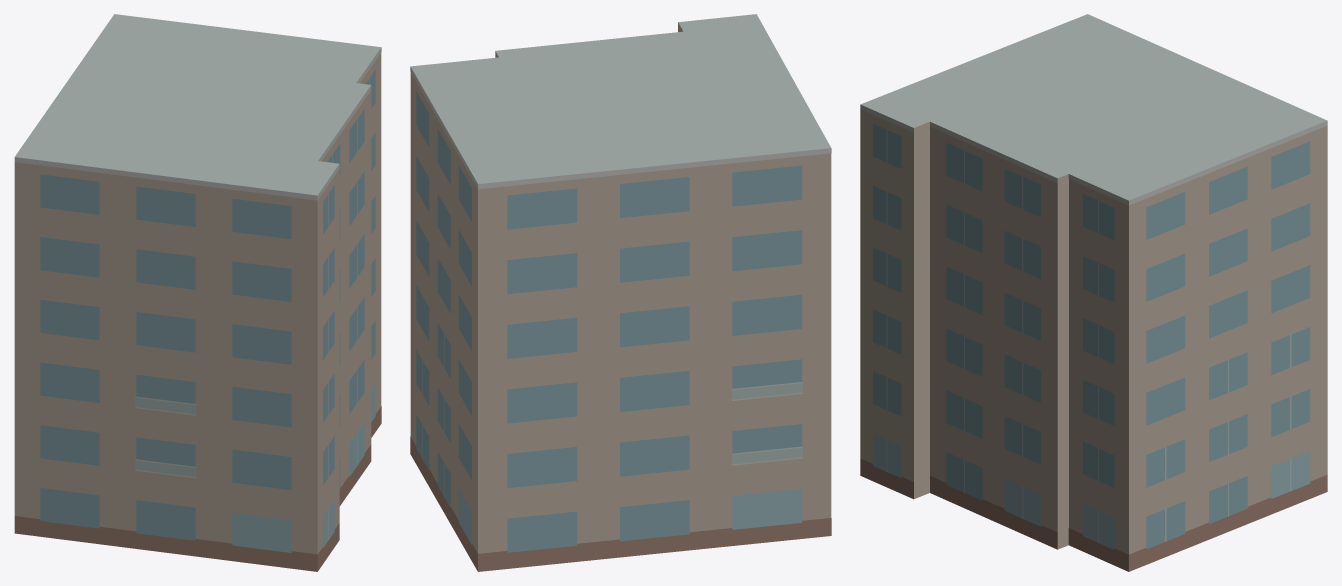
The model's file is survey-upis-32658175.glb.
The picture shows the model from 3 angles, left to right: view 1: azimuth 30°, elevation 25°; view 2: azimuth 150°, elevation 25°; view 3: azimuth 270°, elevation 25°; orthographic projection. The views are drawn at different scales.
Visible parts, largest first — view 1: survey-upis-32658175.tmp; view 2: survey-upis-32658175.tmp; view 3: survey-upis-32658175.tmp.
Part boxes in pixels (x1,y1,x2,y2): survey-upis-32658175.tmp: (14,14,381,571); survey-upis-32658175.tmp: (410,14,831,571); survey-upis-32658175.tmp: (860,14,1327,571).
Bounding box in the file's own units: 19.85 × 18.4 × 20.99.
